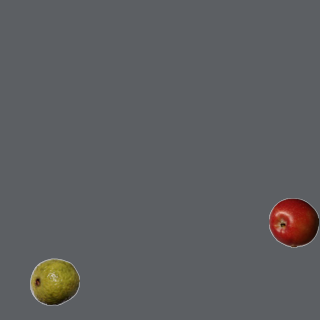Apple Braeburn: (268, 197, 318, 247)
Guava: (29, 256, 79, 306)
